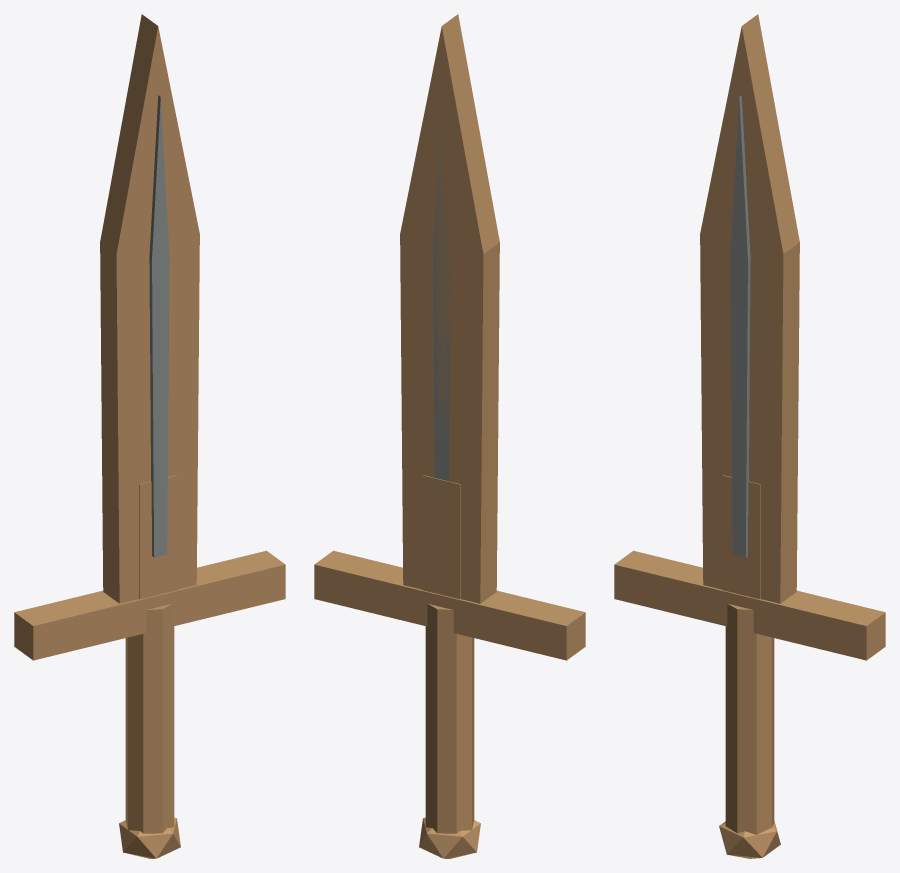
Rendered from woodenSword.glb.
The picture shows the model from 3 angles, left to right: view 1: azimuth 30°, elevation 25°; view 2: azimuth 150°, elevation 25°; view 3: azimuth 330°, elevation 25°; orthographic projection.
Visible parts, largest first — view 1: Blade, Guard, Grip, BladeRidge, BladeTang, Pommel; view 2: Blade, Guard, Grip, BladeRidge, BladeTang, Pommel; view 3: Blade, Guard, Grip, BladeRidge, BladeTang, Pommel.
Part boxes in pixels (x1,y1,x2,y2): Blade: [100, 14, 199, 603]; Guard: [14, 550, 285, 660]; Grip: [125, 603, 174, 833]; BladeRidge: [149, 95, 169, 557]; BladeTang: [139, 475, 177, 599]; Pommel: [119, 817, 180, 858]; Blade: [400, 14, 499, 603]; Guard: [314, 550, 585, 660]; Grip: [425, 603, 474, 833]; BladeRidge: [433, 97, 450, 481]; BladeTang: [422, 475, 460, 599]; Pommel: [419, 817, 480, 858]; Blade: [700, 14, 799, 603]; Guard: [614, 550, 885, 660]; Grip: [725, 603, 774, 834]; BladeRidge: [730, 95, 750, 557]; BladeTang: [722, 475, 760, 599]; Pommel: [719, 821, 780, 858].
Bounding box in the file's own units: 0.46 × 1.46 × 0.0936.
